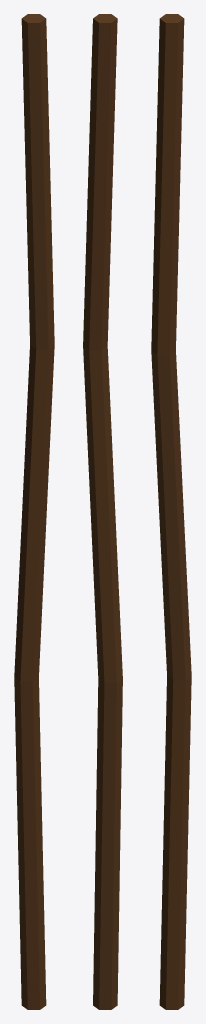
The model's file is Stick.fbx.
The picture shows the model from 3 angles, left to right: view 1: azimuth 90°, elevation 25°; view 2: azimuth 210°, elevation 25°; view 3: azimuth 270°, elevation 25°; orthographic projection.
Visible parts, largest first — view 1: Cylinder; view 2: Cylinder; view 3: Cylinder.
Part boxes in pixels (x1,y1,x2,y2): Cylinder: [14, 14, 54, 1009]; Cylinder: [83, 14, 122, 1009]; Cylinder: [151, 14, 191, 1009].
Size of the model in its own units: 4.12 by 150 by 5.58.
